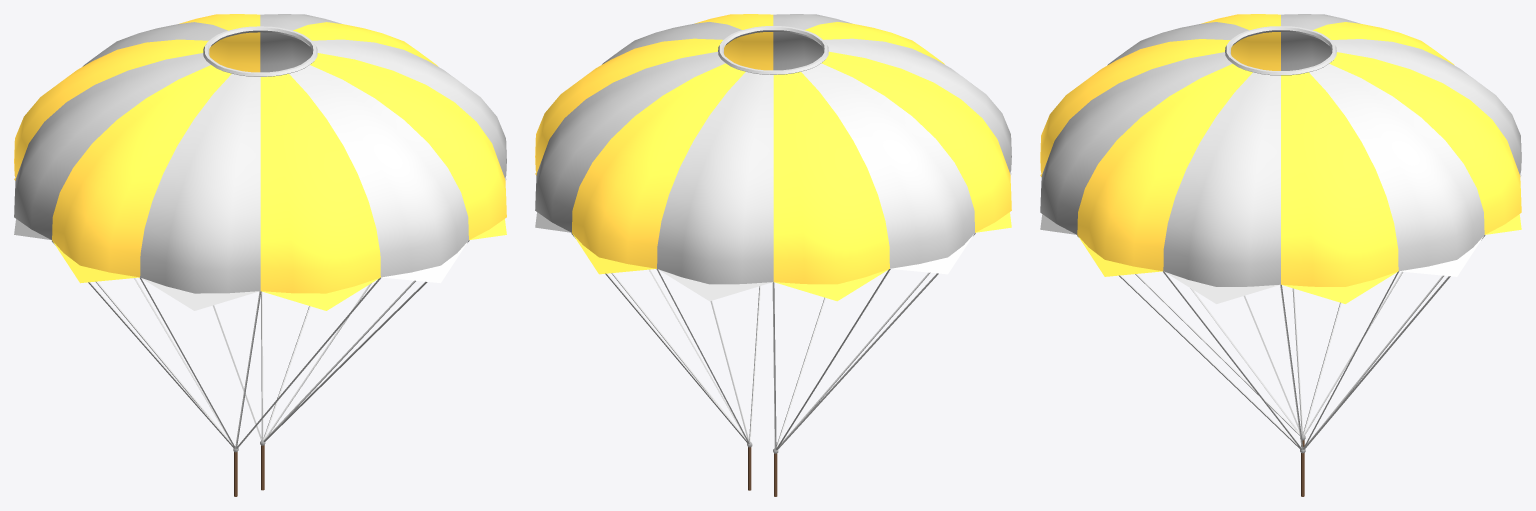
Rendered from PS_Parachute_Golden.glb.
3 renders of one model, left to right at view 1: azimuth 30°, elevation 25°; view 2: azimuth 150°, elevation 25°; view 3: azimuth 270°, elevation 25°, orthographic. The views are drawn at different scales.
Visible parts, largest first — view 1: Golden Parachute; view 2: Golden Parachute; view 3: Golden Parachute.
Boxes of the visible parts, bbox=[...] form: Golden Parachute: bbox=[14, 14, 506, 496]; Golden Parachute: bbox=[535, 14, 1011, 496]; Golden Parachute: bbox=[1040, 14, 1521, 496].
Size of the model in its own units: 1.14 by 1.16 by 1.14.
3 materials, 3 textured.
